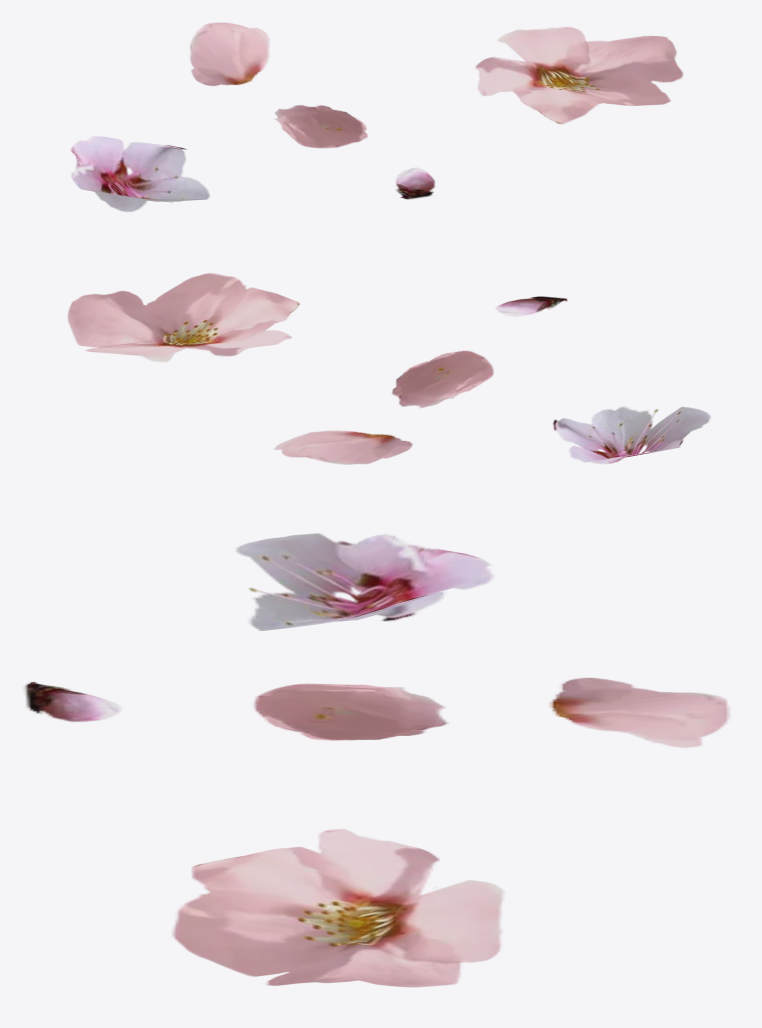
The model's file is sakura_ground_petals.glb.
3 views of the same model, one above another, from view 1: azimuth 30°, elevation 25°; view 2: azimuth 150°, elevation 25°; view 3: azimuth 270°, elevation 25° (orthographic). The views are drawn at different scales.
Parts seen in each view (by area): view 1: flower_1_cherry_tree_leaves_0, flower_2_cherry_tree_leaves1_0; view 2: flower_1_cherry_tree_leaves_0, flower_2_cherry_tree_leaves1_0; view 3: flower_1_cherry_tree_leaves_0, flower_2_cherry_tree_leaves1_0.
Boxes of the visible parts, x1,y1,x2,y2 form: flower_1_cherry_tree_leaves_0: [189, 22, 683, 199]; flower_2_cherry_tree_leaves1_0: [70, 136, 209, 212]; flower_1_cherry_tree_leaves_0: [67, 273, 567, 464]; flower_2_cherry_tree_leaves1_0: [552, 406, 710, 464]; flower_1_cherry_tree_leaves_0: [24, 677, 730, 987]; flower_2_cherry_tree_leaves1_0: [235, 533, 494, 630].
Bounding box in the file's own units: 205 × 12.75 × 136.
2 materials, 2 textured.
